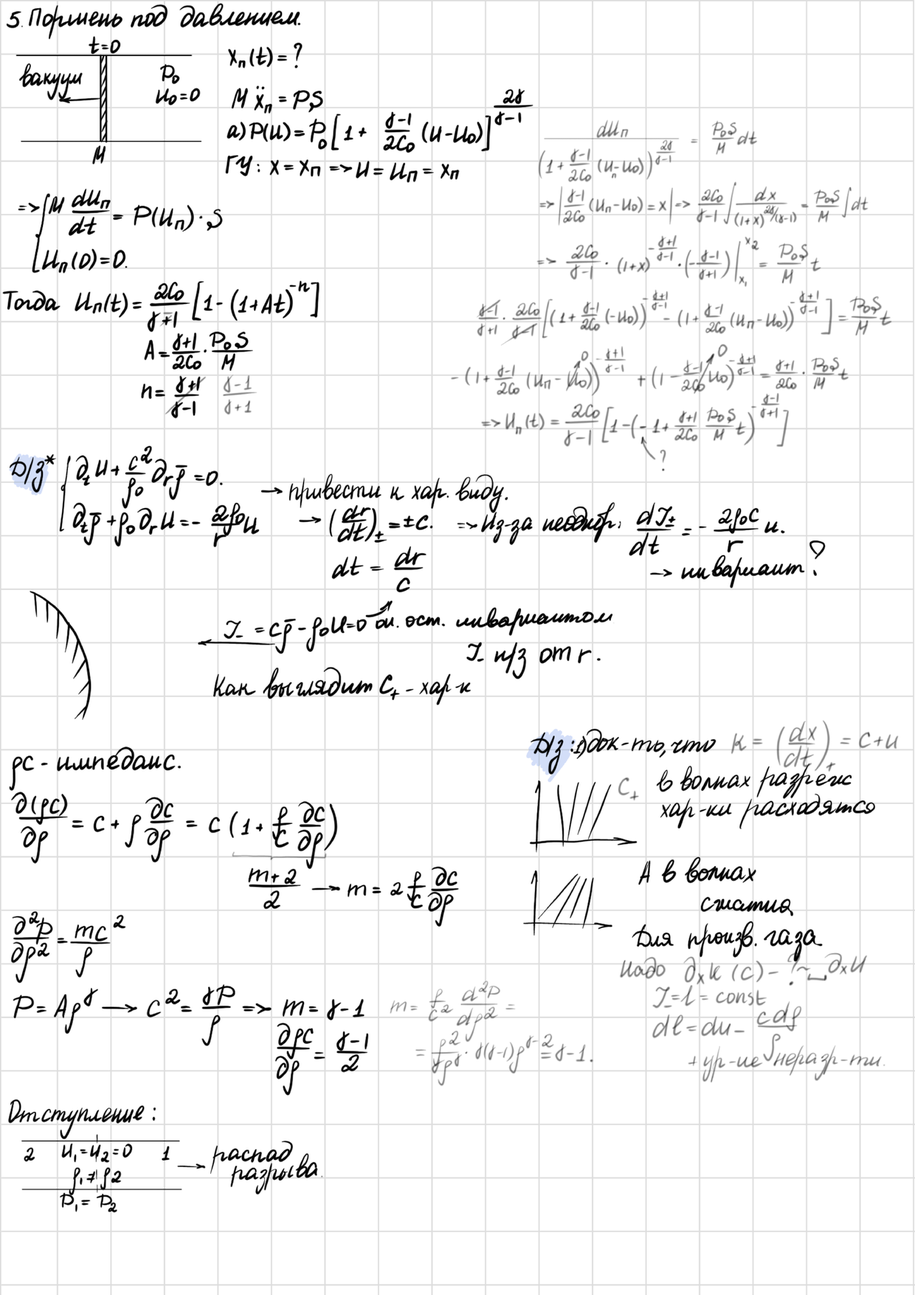formula: (461, 283, 894, 344), (2, 792, 355, 863), (447, 348, 853, 402), (479, 391, 792, 453), (252, 98, 529, 157), (535, 112, 764, 178), (532, 236, 820, 286), (535, 185, 877, 226), (238, 865, 466, 924), (73, 280, 323, 330), (405, 1032, 604, 1092), (71, 496, 265, 546), (8, 909, 130, 984), (51, 194, 226, 237), (269, 1028, 376, 1093), (633, 506, 784, 551), (73, 450, 226, 494), (268, 153, 461, 187), (135, 371, 263, 422), (140, 986, 240, 1044), (385, 991, 521, 1030), (4, 986, 103, 1037), (321, 554, 431, 592), (136, 335, 259, 368), (323, 508, 434, 542), (227, 80, 330, 114), (278, 994, 369, 1026), (214, 42, 313, 71), (44, 249, 137, 271)
picture: (7, 38, 209, 159), (20, 592, 142, 725), (13, 1135, 180, 1210), (521, 777, 635, 853), (515, 863, 619, 946)
text: (8, 4, 308, 33), (287, 475, 513, 506), (632, 922, 823, 958), (5, 746, 191, 782), (656, 796, 886, 825), (2, 1093, 169, 1129), (208, 1146, 330, 1193), (636, 855, 767, 888), (650, 769, 852, 790), (576, 732, 719, 759), (482, 514, 626, 537), (688, 894, 800, 922), (6, 282, 67, 317), (222, 147, 261, 179)
